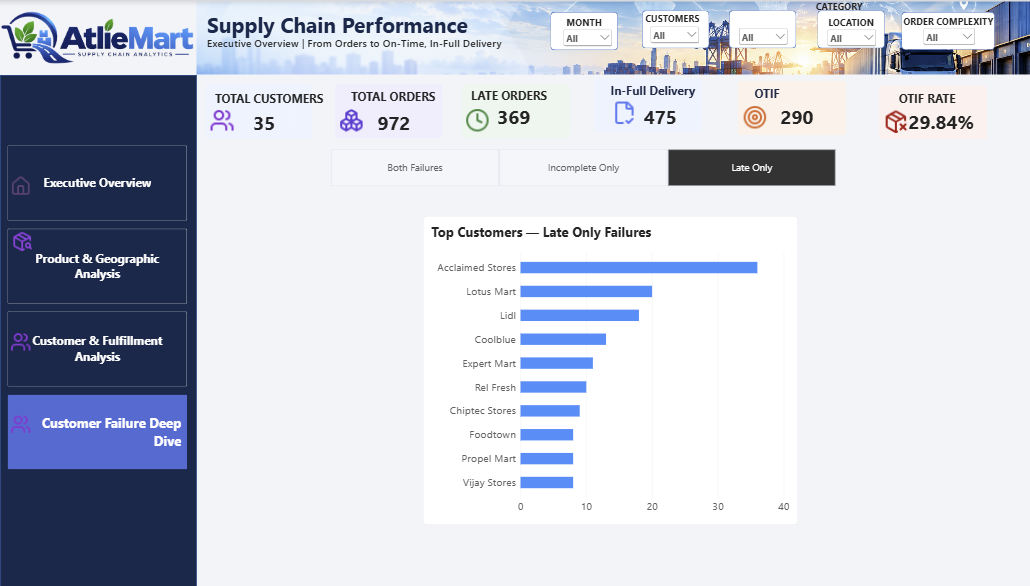

The dashboard page shown, as its layout file describes it:
{"tool":"powerbi","page":{"name":"Customer Failure Deep Dive","canvas":[2100,1200],"ordinal":3},"visuals":[{"type":"shape","box":[0,151.5,401,1047.6],"z":0,"group":"g1"},{"type":"group","id":"g1","title":"Group 5","box":[0,151.5,401,1047.6],"z":0},{"type":"shape","box":[418.2,169.7,218.2,112.1],"z":0,"group":"g4"},{"type":"shape","box":[680,171.4,220,110],"z":0,"group":"g5"},{"type":"cardVisual","fields":{"Data":["Measures_table.FULFILLEDORDER%"]},"box":[1831.7,204.8,168.9,64.6],"z":0,"group":"g3"},{"type":"cardVisual","fields":{"Data":["Measures_table.Total_Orders"]},"box":[703.7,206,193.8,72],"z":0,"group":"g2"},{"type":"shape","box":[1790.6,174.5,220,110],"z":1000},{"type":"group","id":"g2","title":"Group 2","box":[685.8,179.2,211.7,98.9],"z":1000,"group":"g5"},{"type":"cardVisual","fields":{"Data":["Count(fact_order_line_rows.customer_id)"]},"box":[477.2,205.2,123.2,70.9],"z":1000,"group":"g4"},{"type":"image","box":[685.8,220.5,56,50],"z":1000,"group":"g2"},{"type":"image","box":[1796.4,223.6,56,50],"z":1000,"group":"g3"},{"type":"pageNavigator","box":[15.8,294.2,366.5,660.3],"z":1000,"group":"g1"},{"type":"shape","box":[940,171.4,220,110],"z":2000},{"type":"textbox","box":[713.7,179.2,176.9,33.3],"z":2000,"group":"g2"},{"type":"textbox","box":[1824.3,182.3,176.9,33.3],"z":2000,"group":"g3"},{"type":"image","box":[423.9,219.7,55.5,51],"z":2000,"group":"g4"},{"type":"image","box":[18.1,468,54.1,42.8],"z":2000,"group":"g1"},{"type":"textbox","box":[435.8,182.7,269.7,27.3],"z":3000,"group":"g4"},{"type":"image","box":[16.2,676.5,54.1,42.8],"z":3000},{"type":"image","box":[16.2,842.8,54.1,42.8],"z":3000,"group":"g1"},{"type":"shape","box":[1211.6,159.8,220,110],"z":4000},{"type":"shape","box":[1504,165.9,220,110],"z":5000},{"type":"image","box":[15.8,357.7,54.1,42.8],"z":5000,"group":"g1"},{"type":"image","box":[0,0,400,154],"z":6000},{"type":"cardVisual","fields":{"Data":["Measures_table.Orders_With_Late_Deliveries"]},"box":[987,194.3,119.2,82],"z":7000},{"type":"cardVisual","fields":{"Data":["Measures_table.Orders_With_Incomplete_Deliveries"]},"box":[1258.6,194.9,172.7,63.6],"z":8000},{"type":"cardVisual","fields":{"Data":["CountNonNull(Order_Complexity.FulfillED ORDERS)"]},"box":[1537.4,194.9,173.9,72],"z":9000},{"type":"image","box":[401,4.5,1700.9,148.7],"z":10000},{"type":"image","box":[945.8,220.5,56,50],"z":11000},{"type":"image","box":[1242.4,206.1,56,50],"z":12000},{"type":"image","box":[1509.8,214.9,56,50],"z":13000},{"type":"textbox","box":[422.3,19.9,628.5,84.5],"z":14000},{"type":"textbox","box":[958.5,176.2,230.3,81.8],"z":15000},{"type":"textbox","box":[1245.2,167.6,176.9,33.3],"z":16000},{"type":"textbox","box":[1537.7,173.6,176.9,33.3],"z":17000},{"type":"textbox","box":[421.3,72.1,757,38.3],"z":18000},{"type":"shape","box":[1666,22.5,137,77],"z":19000},{"type":"shape","box":[1307.8,22.5,137,77],"z":20000},{"type":"shape","box":[1121.7,23.3,137.3,77.7],"z":21000},{"type":"shape","box":[1485.7,22.5,137,77],"z":22000},{"type":"shape","box":[1836.7,23.3,190,77],"z":23000},{"type":"group","id":"g3","title":"Group 2","box":[1796.4,182.3,204.8,91.3],"z":24000},{"type":"slicer","fields":{"Values":["dim_products_rows.category"]},"box":[1499.9,51.8,109.3,84.5],"z":25000},{"type":"slicer","fields":{"Values":["dim_customers_rows.city"]},"box":[1681.2,54.4,109.3,84.5],"z":26000},{"type":"slicer","fields":{"Values":["Order_Complexity.complexity_Category"]},"box":[1875.5,51.8,115.1,81.2],"z":27000},{"type":"slicer","fields":{"Values":["dim_customers_rows.customer_name"]},"box":[1321.6,49.7,109.3,84.5],"z":28000},{"type":"slicer","fields":{"Values":["date_table.month_name"]},"box":[1142.4,54.4,109.3,84.5],"z":29000},{"type":"textbox","box":[1269.4,24.8,203.7,84.5],"z":30000},{"type":"textbox","box":[1095.8,33.7,186.4,85.3],"z":31000},{"type":"textbox","box":[1639.8,33.7,186.4,85.3],"z":32000},{"type":"textbox","box":[1834.1,31.1,196.9,44],"z":33000},{"type":"textbox","box":[1616.7,0,186.4,85.3],"z":34000},{"type":"group","id":"g4","title":"Group 1","box":[418.2,169.7,287.3,112.1],"z":35000},{"type":"group","id":"g5","title":"Group 3","box":[680,171.4,220,110],"z":36000},{"type":"clusteredBarChart","fields":{"Category":["dim_customers_rows.customer_name"],"Y":["Measures_table.Customer_Incomplete_Only_Orders"]},"box":[862.7,441.1,764.2,629.5],"z":37000},{"type":"slicer","fields":{"Values":["Failure Categories Selector.Failure Categories Selector"]},"box":[655.4,303.1,1067.3,77.7],"z":38000}]}

Visuals, with their boxes on the page's 2100x1200 design canvas (x1, y1, x2, y2). These are canvas units, not pixel positions in the 1030x586 screenshot, which may show the page scaled, cropped or inside an application window:
shape: (0,152,401,1199)
"Group 5" group: (0,152,401,1199)
shape: (418,170,636,282)
shape: (680,171,900,281)
cardVisual - Measures_table.FULFILLEDORDER%: (1832,205,2001,269)
cardVisual - Measures_table.Total_Orders: (704,206,898,278)
shape: (1791,174,2011,284)
"Group 2" group: (686,179,898,278)
cardVisual - Count(fact_order_line_rows.customer_id): (477,205,600,276)
image: (686,220,742,270)
image: (1796,224,1852,274)
pageNavigator: (16,294,382,954)
shape: (940,171,1160,281)
textbox: (714,179,891,212)
textbox: (1824,182,2001,216)
image: (424,220,479,271)
image: (18,468,72,511)
textbox: (436,183,706,210)
image: (16,676,70,719)
image: (16,843,70,886)
shape: (1212,160,1432,270)
shape: (1504,166,1724,276)
image: (16,358,70,400)
image: (0,0,400,154)
cardVisual - Measures_table.Orders_With_Late_Deliveries: (987,194,1106,276)
cardVisual - Measures_table.Orders_With_Incomplete_Deliveries: (1259,195,1431,258)
cardVisual - CountNonNull(Order_Complexity.FulfillED ORDERS): (1537,195,1711,267)
image: (401,4,2102,153)
image: (946,220,1002,270)
image: (1242,206,1298,256)
image: (1510,215,1566,265)
textbox: (422,20,1051,104)
textbox: (958,176,1189,258)
textbox: (1245,168,1422,201)
textbox: (1538,174,1715,207)
textbox: (421,72,1178,110)
shape: (1666,22,1803,100)
shape: (1308,22,1445,100)
shape: (1122,23,1259,101)
shape: (1486,22,1623,100)
shape: (1837,23,2027,100)
"Group 2" group: (1796,182,2001,274)
slicer - dim_products_rows.category: (1500,52,1609,136)
slicer - dim_customers_rows.city: (1681,54,1790,139)
slicer - Order_Complexity.complexity_Category: (1876,52,1991,133)
slicer - dim_customers_rows.customer_name: (1322,50,1431,134)
slicer - date_table.month_name: (1142,54,1252,139)
textbox: (1269,25,1473,109)
textbox: (1096,34,1282,119)
textbox: (1640,34,1826,119)
textbox: (1834,31,2031,75)
textbox: (1617,0,1803,85)
"Group 1" group: (418,170,706,282)
"Group 3" group: (680,171,900,281)
clusteredBarChart - dim_customers_rows.customer_name x Measures_table.Customer_Incomplete_Only_Orders: (863,441,1627,1071)
slicer - Failure Categories Selector.Failure Categories Selector: (655,303,1723,381)
